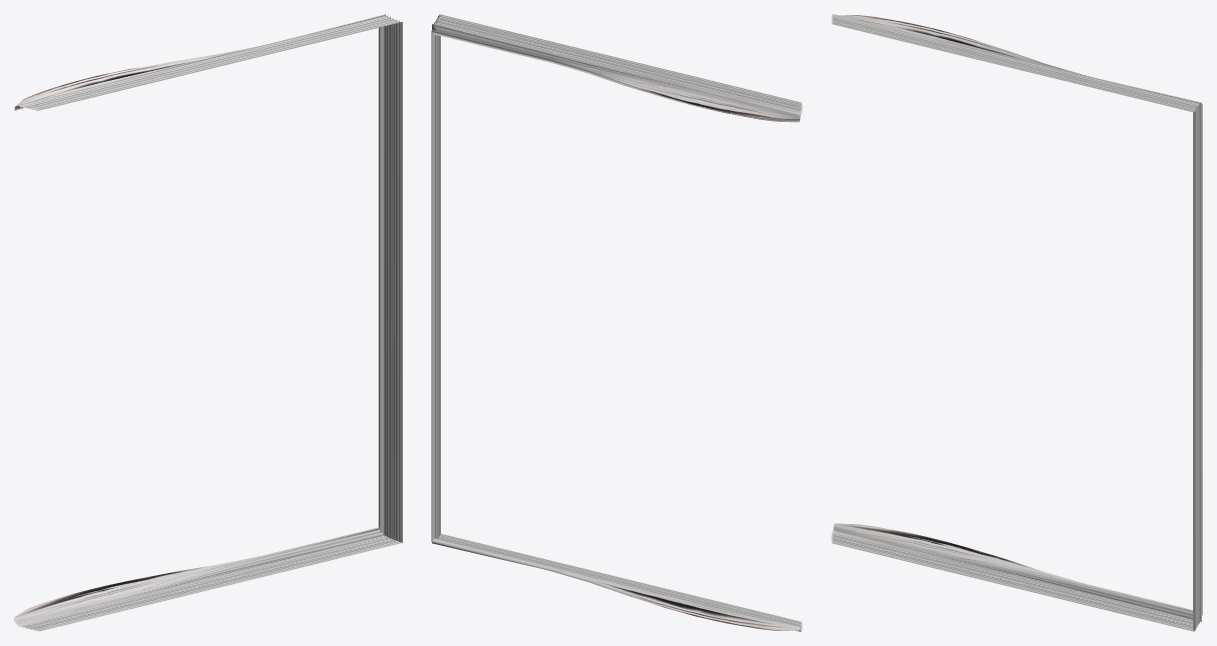
File: MeshBookFront_30_1_GeomSubset_0.obj
3 views of the same model, side by side, from view 1: azimuth 30°, elevation 25°; view 2: azimuth 150°, elevation 25°; view 3: azimuth 330°, elevation 25° (orthographic).
Visible parts, largest first — view 1: MeshBookFront_30_1_GeomSubset_0; view 2: MeshBookFront_30_1_GeomSubset_0; view 3: MeshBookFront_30_1_GeomSubset_0.
Part boxes in pixels (x1=…): MeshBookFront_30_1_GeomSubset_0: x1=14, y1=14, x2=402, y2=631; MeshBookFront_30_1_GeomSubset_0: x1=431, y1=14, x2=802, y2=631; MeshBookFront_30_1_GeomSubset_0: x1=831, y1=14, x2=1202, y2=631.
Bounding box in the file's own units: 0.1656 × 0.2199 × 0.0192.
